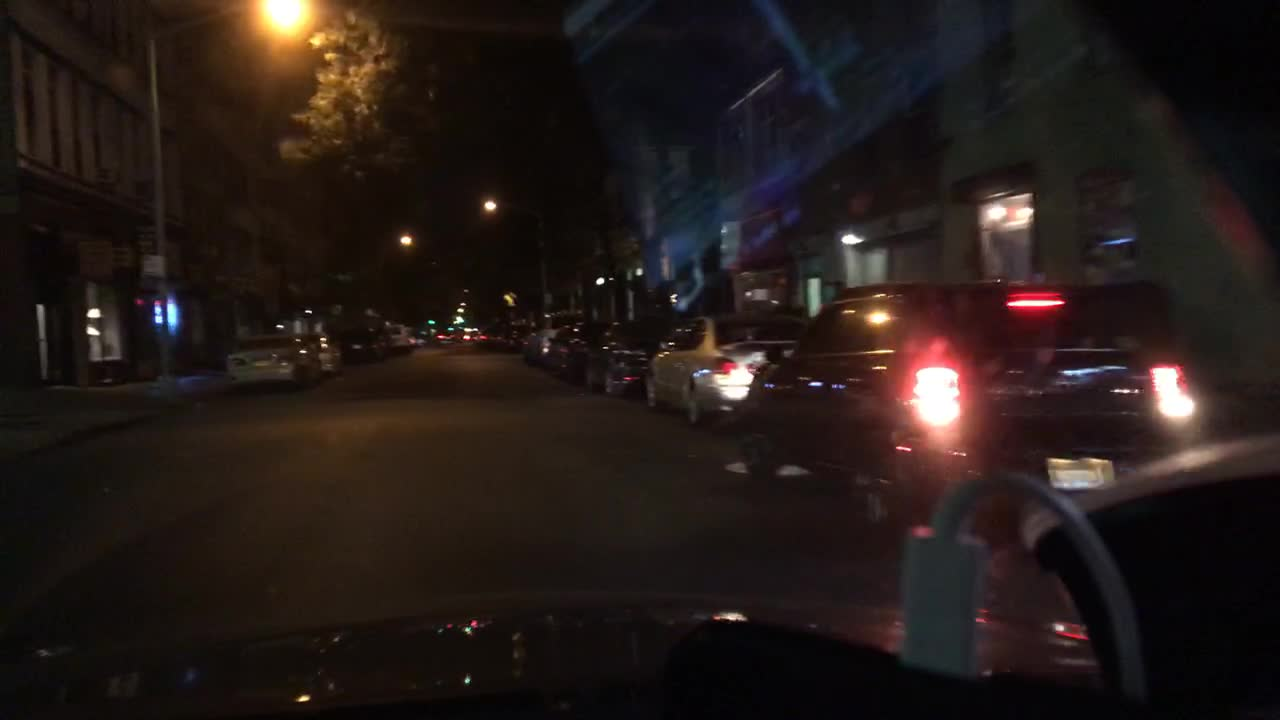car: (736, 277, 1196, 536), (1000, 422, 1279, 717), (643, 310, 809, 426), (570, 320, 662, 394), (226, 329, 319, 392), (543, 319, 610, 373), (339, 315, 395, 363), (301, 327, 343, 373), (524, 325, 563, 362), (430, 325, 465, 344), (386, 326, 410, 348), (464, 327, 487, 345), (405, 326, 425, 346), (505, 331, 524, 348), (485, 331, 506, 344)
traffic light: (451, 315, 465, 324), (425, 317, 438, 324), (445, 325, 455, 334)
traffic sign: (142, 257, 165, 278)
